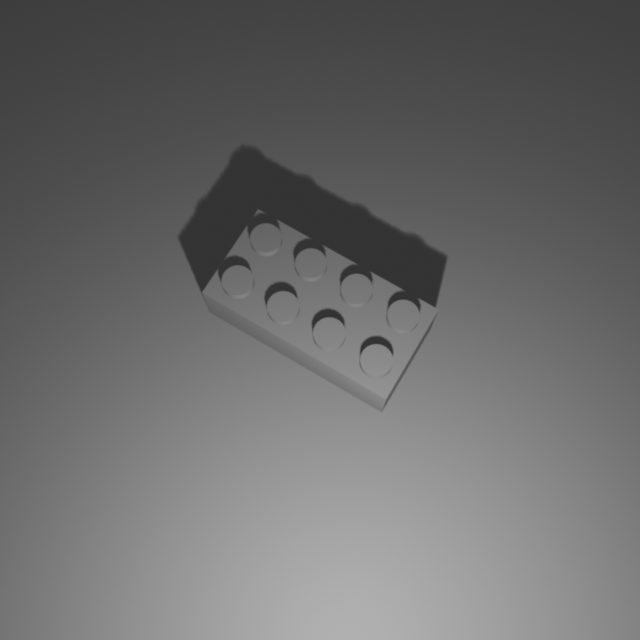lego_2x4: (201, 205, 440, 412)
